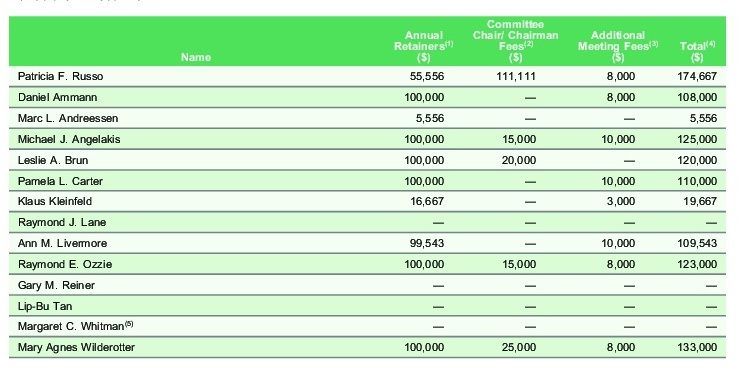table: (0, 0, 742, 372)
